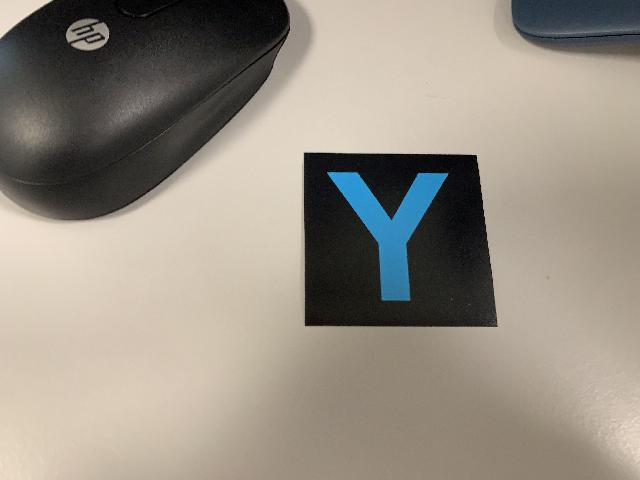y: (303, 151, 499, 329)
